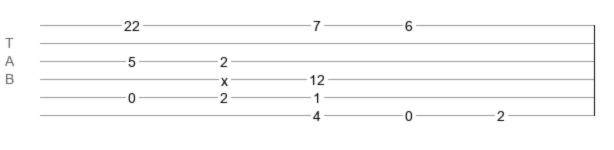0: (128, 90, 136, 100), (405, 108, 413, 118)
1: (313, 90, 321, 100)
12: (309, 72, 325, 82)
2: (220, 54, 228, 64), (220, 90, 228, 100), (497, 108, 505, 118)
22: (124, 18, 140, 28)
4: (313, 108, 321, 118)
5: (128, 54, 136, 64)
6: (405, 18, 413, 28)
7: (313, 18, 321, 28)
x: (221, 73, 228, 81)
